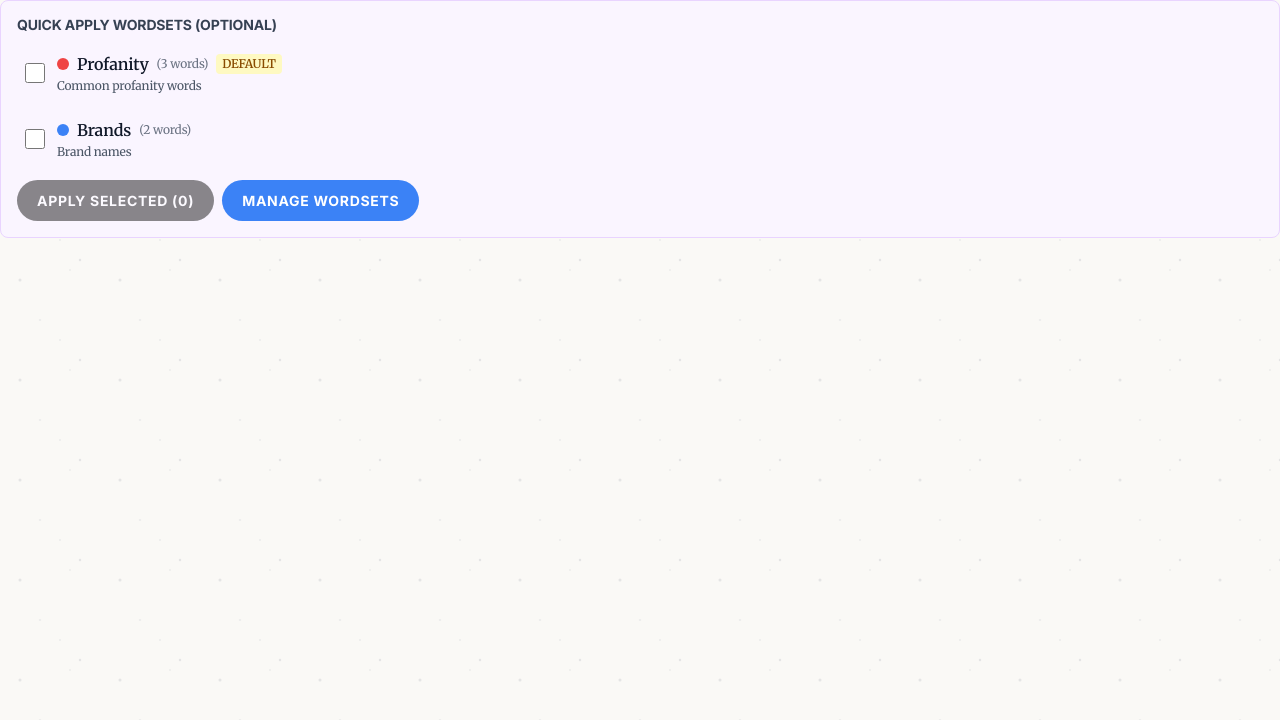
Test: WordsetSelector › shows selected count on apply button
Expected: the button "Apply Selected (0)" is shown, [17, 180, 214, 221]
Click the checkbox with test id "wordset-checkbox-1": [35, 73] box [25, 63, 45, 83]
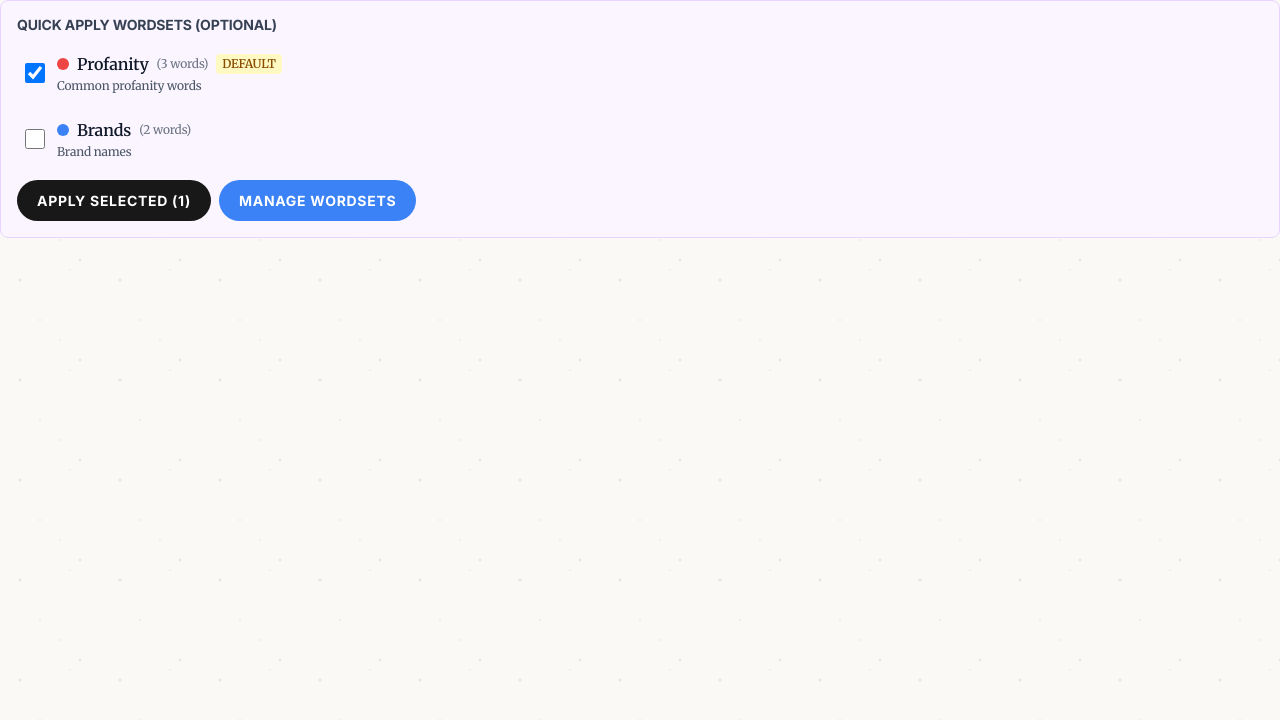
Now the button "Apply Selected (1)" is shown, box [17, 180, 211, 221]
Click the checkbox with test id "wordset-checkbox-2": [35, 139] box [25, 129, 45, 149]
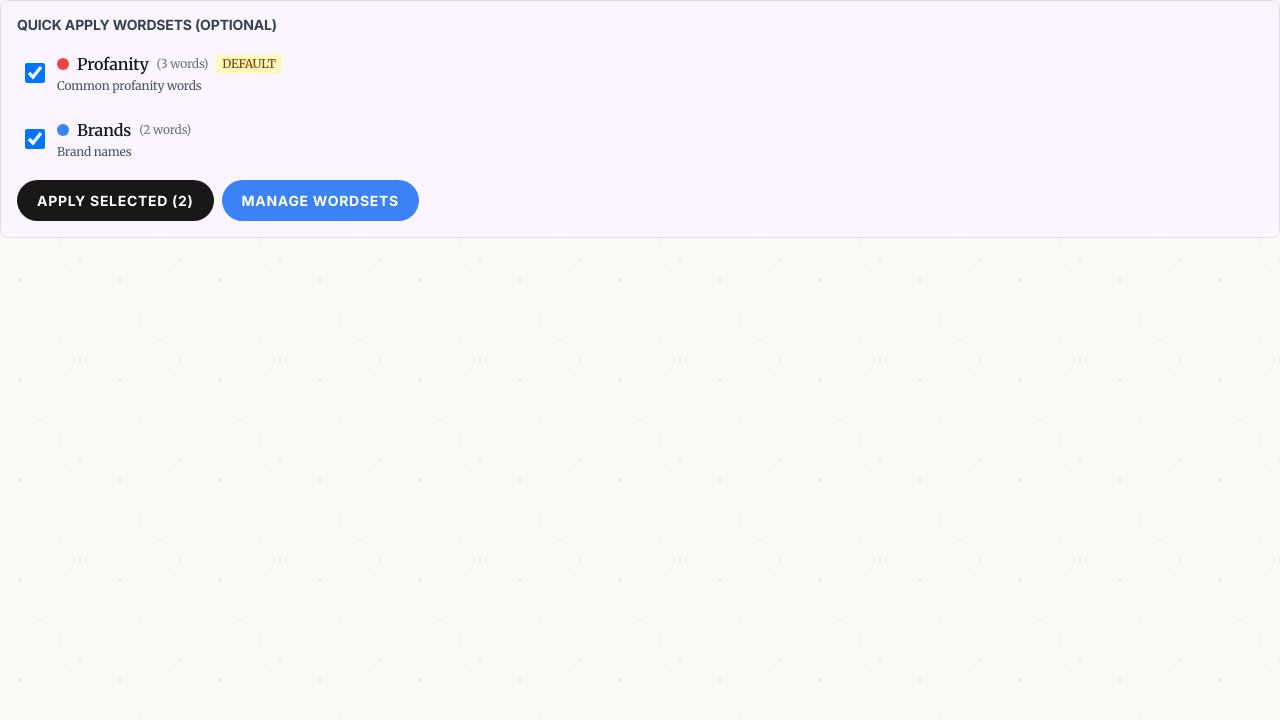
Now the button "Apply Selected (2)" is shown, box [17, 180, 214, 221]
